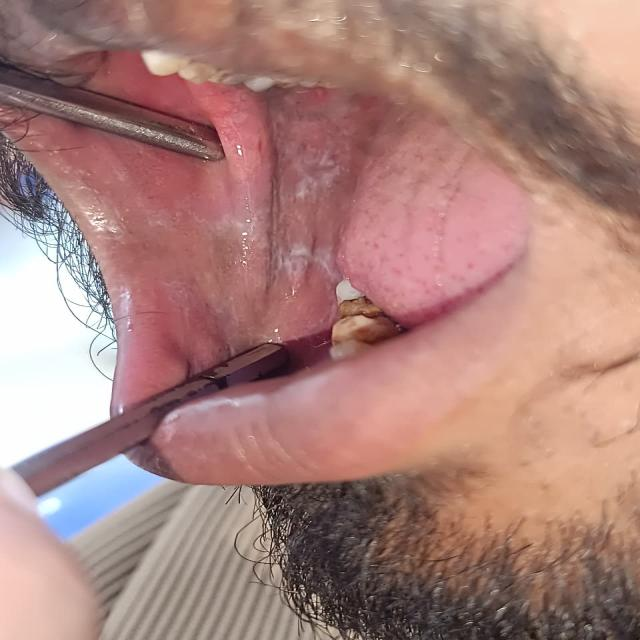leukoplakia-detection: (89, 96, 364, 342)
processing_area: (43, 72, 526, 416)
